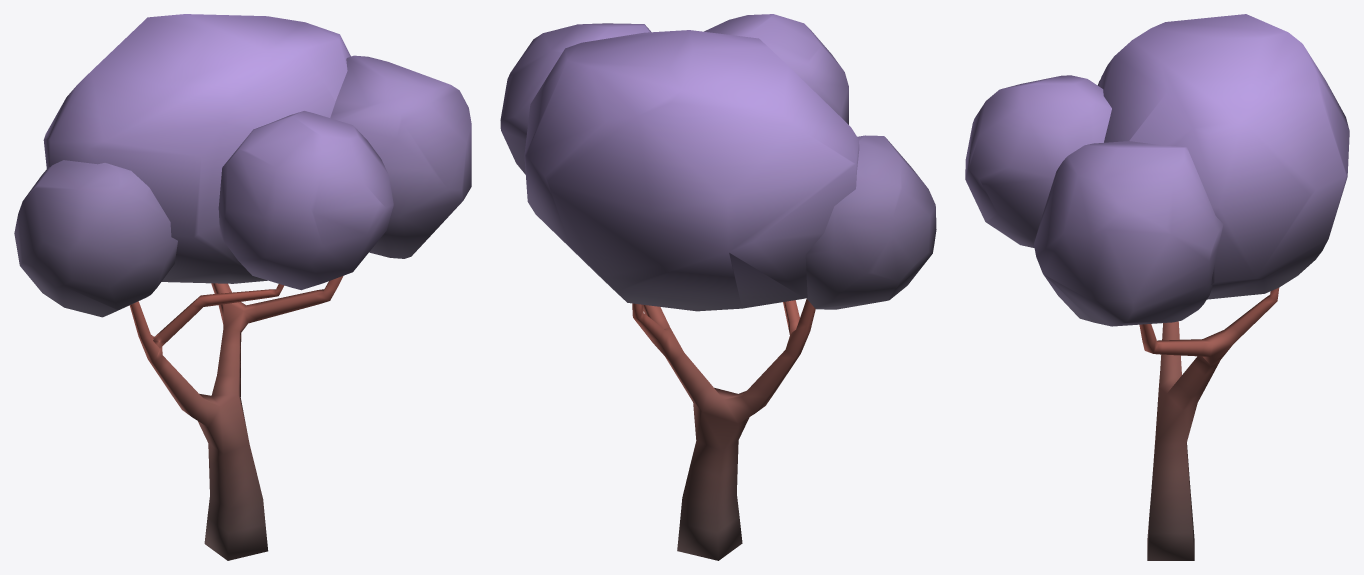
3 renders of one model, left to right at view 1: azimuth 30°, elevation 25°; view 2: azimuth 150°, elevation 25°; view 3: azimuth 270°, elevation 25°, orthographic. The views are drawn at different scales.
Parts seen in each view (by area): view 1: Vert.025; view 2: Vert.025; view 3: Vert.025.
Part boxes in pixels (x1,y1,x2,y2): Vert.025: [14, 14, 471, 560]; Vert.025: [500, 14, 936, 560]; Vert.025: [965, 14, 1349, 560].
Bounding box in the file's own units: 4.45 × 5.11 × 3.49.
1 material, 1 textured.
